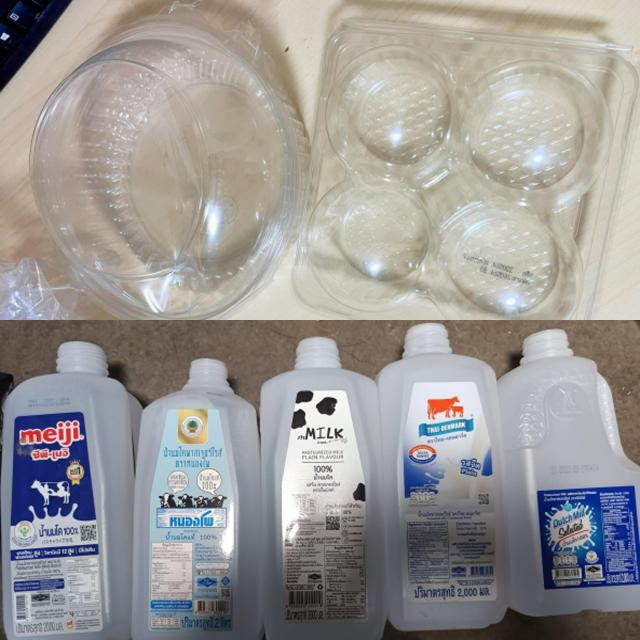HDPE Plastic: (1, 341, 142, 640), (376, 324, 508, 630), (499, 330, 640, 616), (261, 338, 385, 640), (132, 359, 262, 639)
Single-Use-Plastic: (292, 20, 639, 319), (30, 14, 305, 318)
